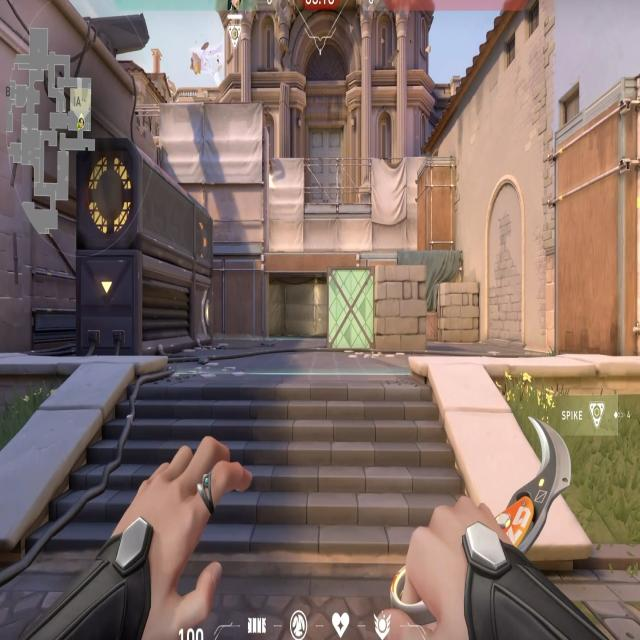A_Heaven_Box: (412, 152, 461, 252)
A_Heaven_Wall: (159, 92, 278, 237)
A_Hell: (249, 246, 340, 344)
A_Site_Box: (322, 254, 428, 358)
